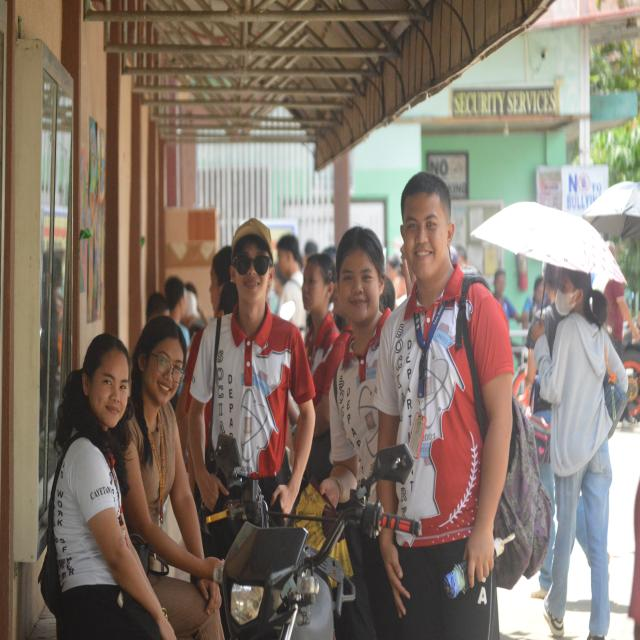person: (373, 173, 513, 639), (54, 334, 175, 639), (189, 219, 314, 513), (532, 269, 627, 639), (123, 317, 223, 639), (321, 227, 390, 505), (525, 264, 562, 397), (303, 254, 339, 375), (277, 235, 306, 334), (604, 279, 639, 359), (165, 277, 189, 347), (494, 269, 520, 321), (146, 292, 168, 321)
